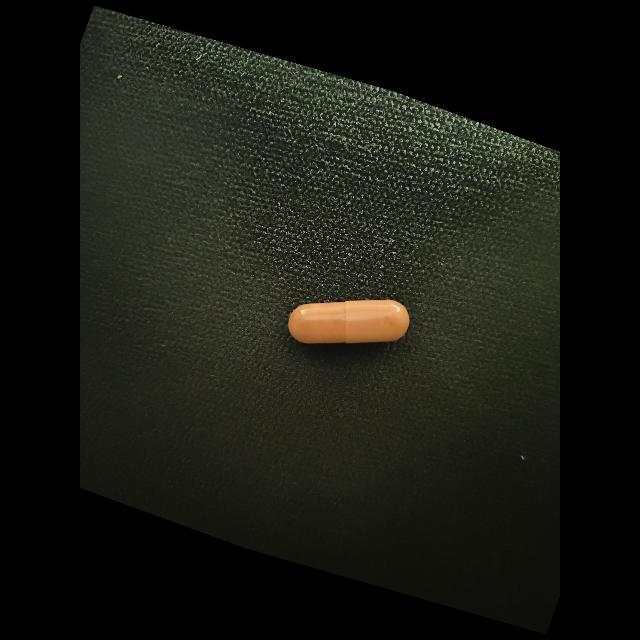Intact Capsule: (288, 300, 409, 343)
